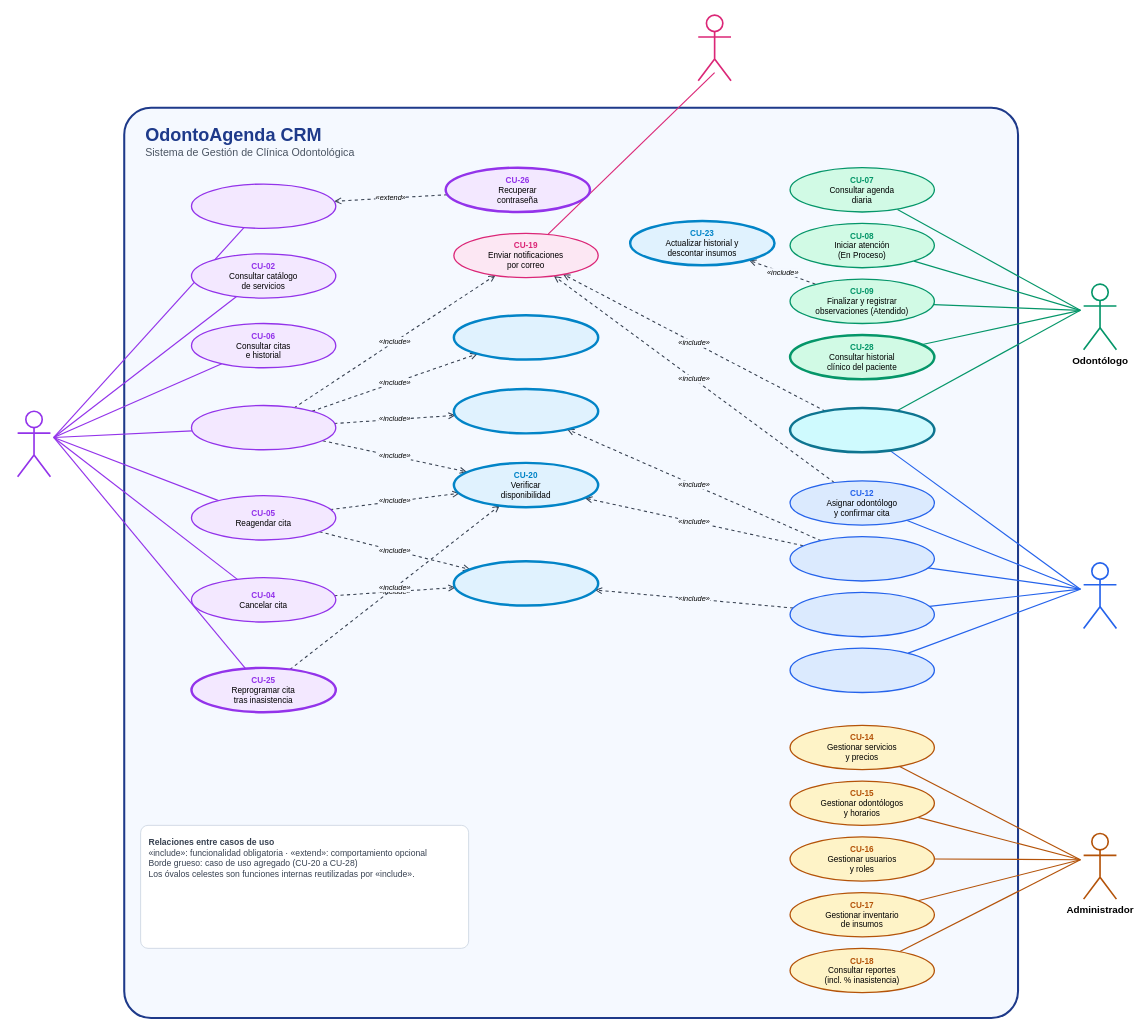
Some shapes in this 1148 by 1033 pixel diagram are drawn without their labels. The shapes that lost their labels are listed below. From the top down, each one's centre as x and y in pixels, then its label:
the point at 714,47: Sistema de notificaciones
the point at 263,206: CU-01 Registrarse / iniciar sesión
the point at 525,337: CU-27 Validar restricción por inasistencias
the point at 263,427: CU-03 Agendar cita
the point at 525,410: CU-21 Calcular duración total
the point at 861,429: CU-24 Marcar No Asistió (tras 15 min)
the point at 33,443: Paciente
the point at 862,558: CU-11 Agendar cita para un paciente
the point at 525,583: CU-22 Aplicar política de cancelación (≥ 2 h)
the point at 1099,595: Recepcionista
the point at 862,614: CU-13 Cancelar o reagendar cita
the point at 862,670: CU-10 Registrar paciente
